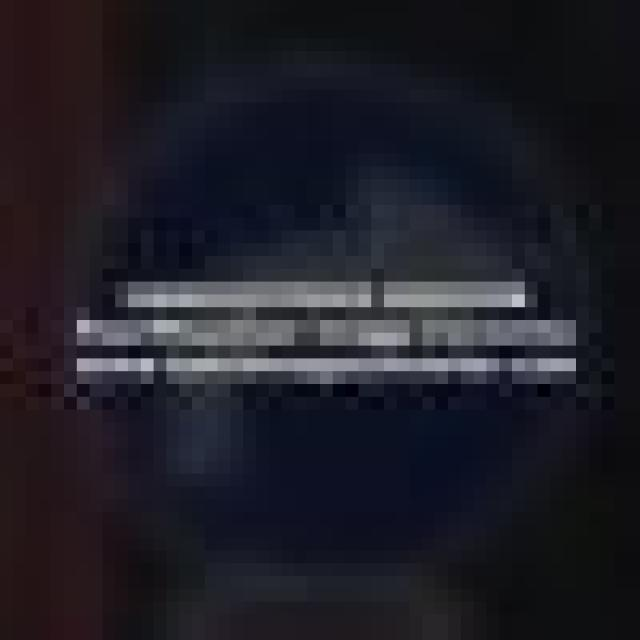railway_crossing: (51, 51, 589, 576)
